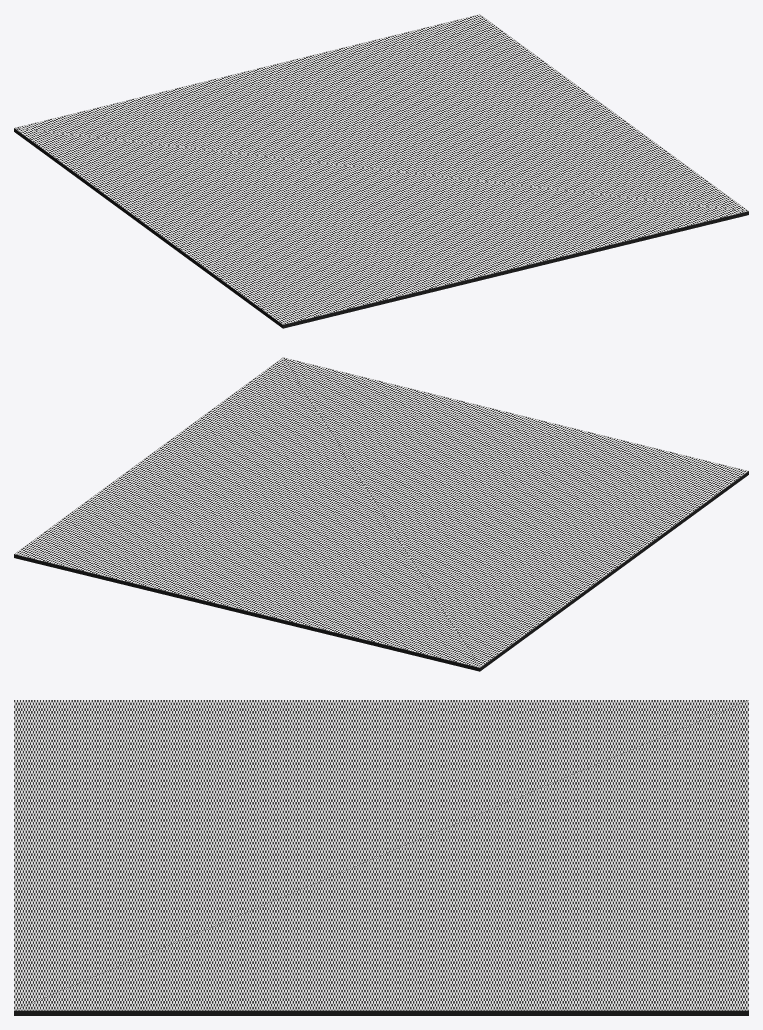
Rendered from BaseplateSky.obj.
The picture shows the model from 3 angles, top to bottom: view 1: azimuth 30°, elevation 25°; view 2: azimuth 150°, elevation 25°; view 3: azimuth 270°, elevation 25°; orthographic projection. The views are drawn at different scales.
Parts seen in each view (by area): view 1: Baseplate2, Baseplate1; view 2: Baseplate2, Baseplate1; view 3: Baseplate2, Baseplate1.
Part boxes in pixels (left/top/right/bottom): Baseplate2: left=14, top=14, right=748, bottom=324; Baseplate1: left=14, top=128, right=748, bottom=328; Baseplate2: left=14, top=357, right=748, bottom=667; Baseplate1: left=14, top=471, right=748, bottom=671; Baseplate2: left=14, top=700, right=748, bottom=1010; Baseplate1: left=14, top=1010, right=748, bottom=1015.
Size of the model in its own units: 2048 by 16.02 by 2048.
